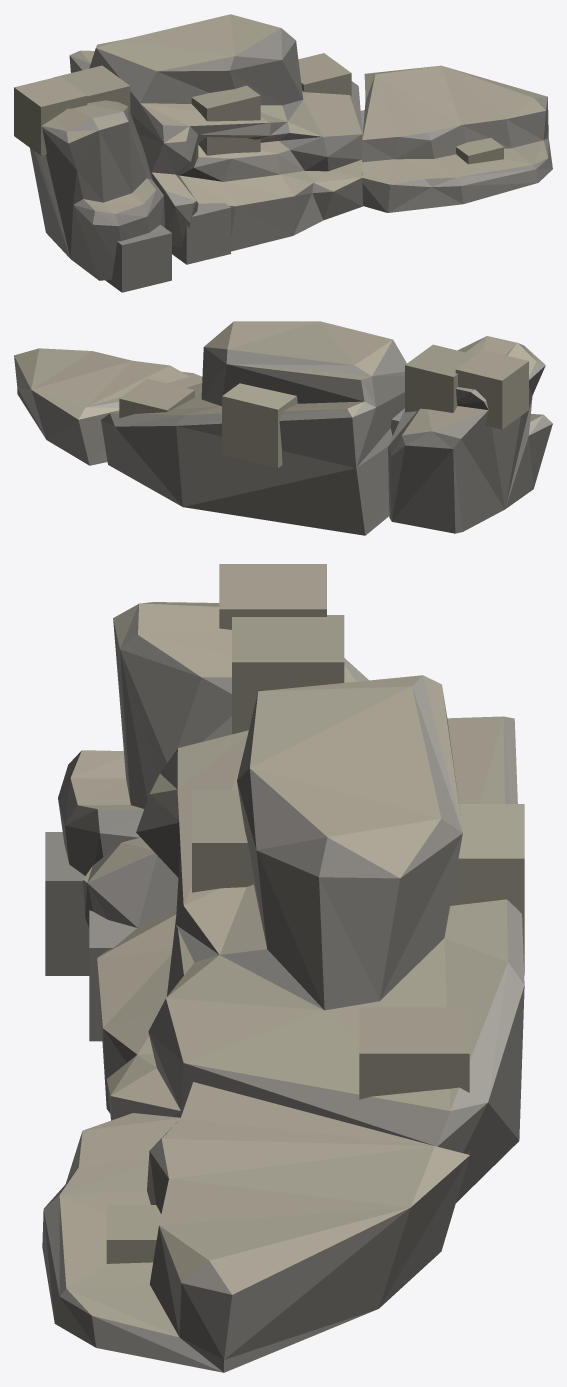
The model's file is clif_01e.glb.
The picture shows the model from 3 angles, top to bottom: view 1: azimuth 30°, elevation 25°; view 2: azimuth 150°, elevation 25°; view 3: azimuth 270°, elevation 25°; orthographic projection. The views are drawn at different scales.
Parts seen in each view (by area): view 1: mapa.roca.acantilado.env_clif_01e; view 2: mapa.roca.acantilado.env_clif_01e; view 3: mapa.roca.acantilado.env_clif_01e.
Boxes of the visible parts, x1,y1,x2,y2 form: mapa.roca.acantilado.env_clif_01e: (14, 14, 552, 292); mapa.roca.acantilado.env_clif_01e: (14, 321, 552, 535); mapa.roca.acantilado.env_clif_01e: (42, 564, 524, 1372).
Size of the model in its own units: 112 by 34.39 by 46.02.
